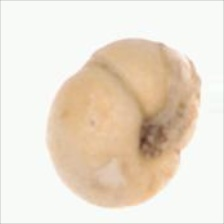L4: (46, 38, 202, 207)
